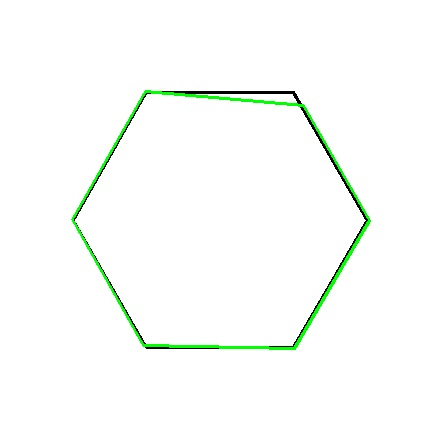line_segment: (72, 90, 370, 350)
